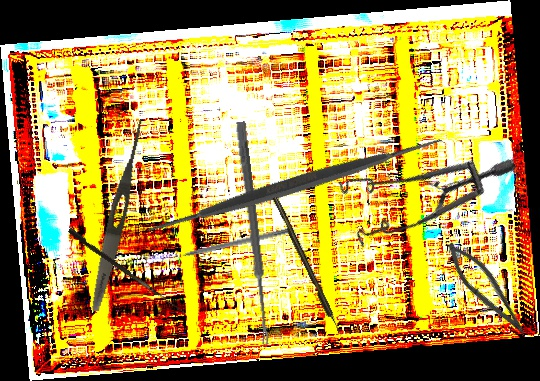Dressing Forceps: (86, 116, 149, 314)
Hook Surgical: (65, 227, 190, 315), (271, 195, 344, 338), (167, 225, 295, 262)
Micro Scissor: (436, 235, 539, 342)
Spatula Surgical: (132, 22, 459, 349)
Speculum: (317, 84, 520, 285)
Surgical Spoon: (234, 121, 273, 346)
